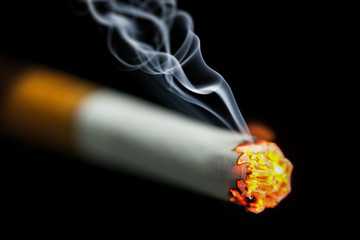cigarette: (184, 126, 296, 218)
